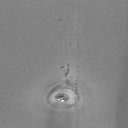slag inclusion: (46, 62, 82, 109)
